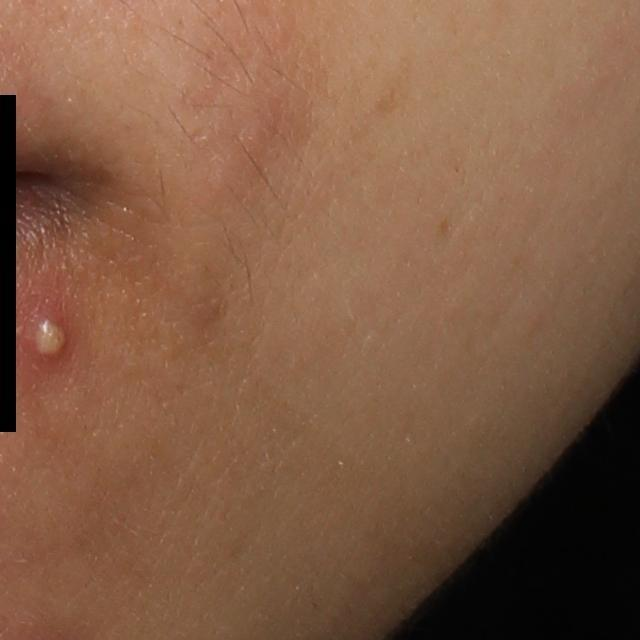pustule: (1, 291, 82, 379)
